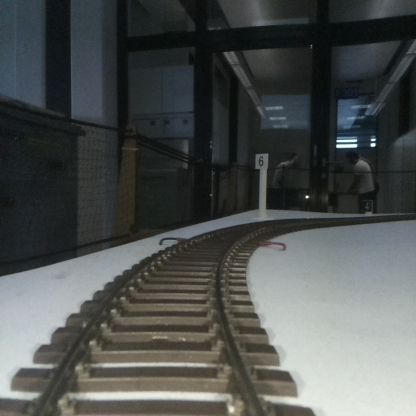black-stop-4: (362, 199, 373, 216)
white-info-6: (255, 153, 268, 220)
